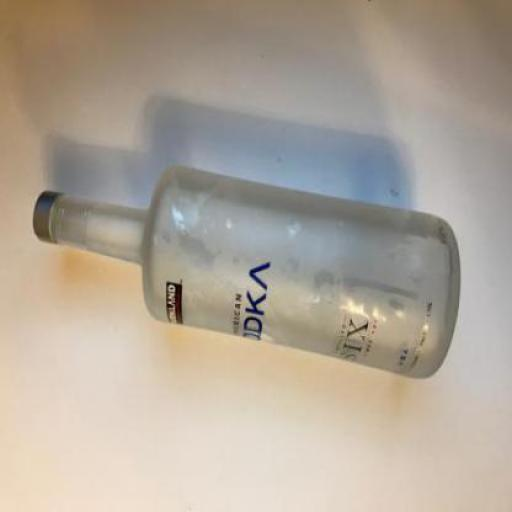glass: (46, 160, 462, 379)
metal: (32, 190, 63, 241)
